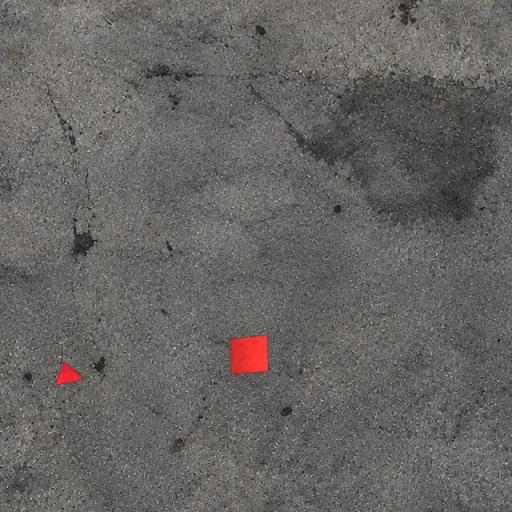RED_SQUARE: (229, 334, 269, 374)
